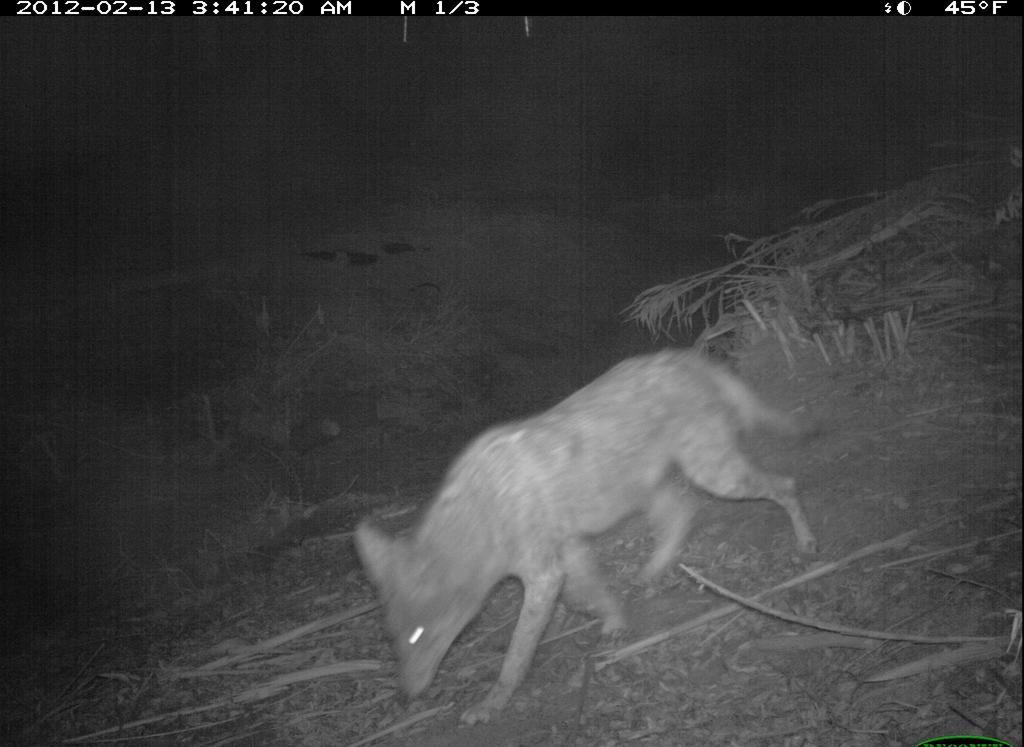coyote: (349, 336, 825, 737)
